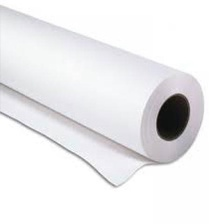tissue: (0, 0, 211, 192)
